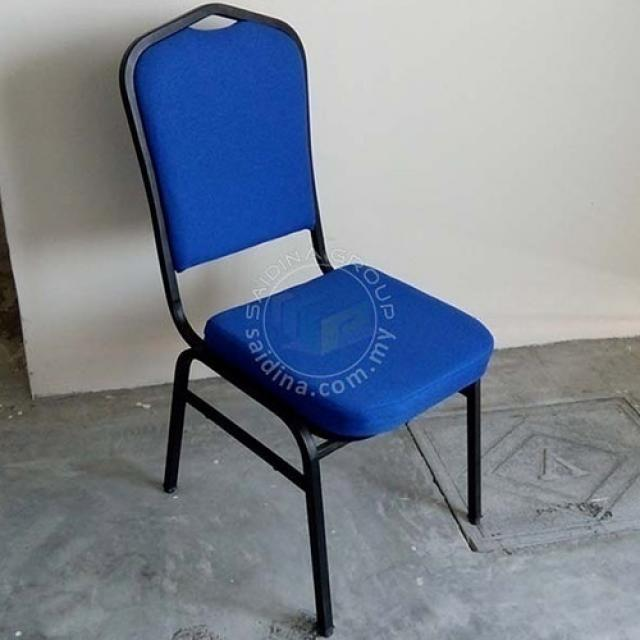Chair: (117, 1, 499, 640)
